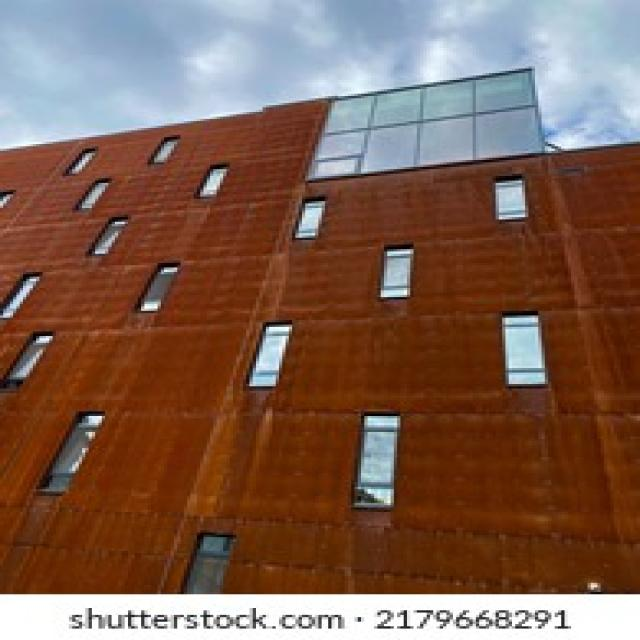corrosion: (0, 95, 640, 594)
